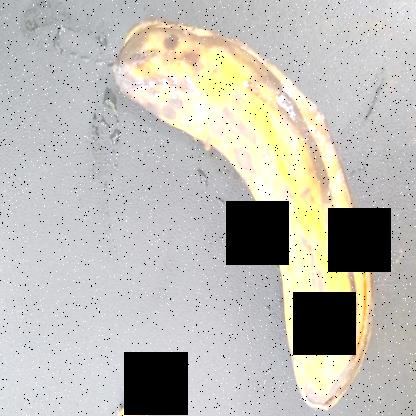rotten: (94, 1, 392, 415)
